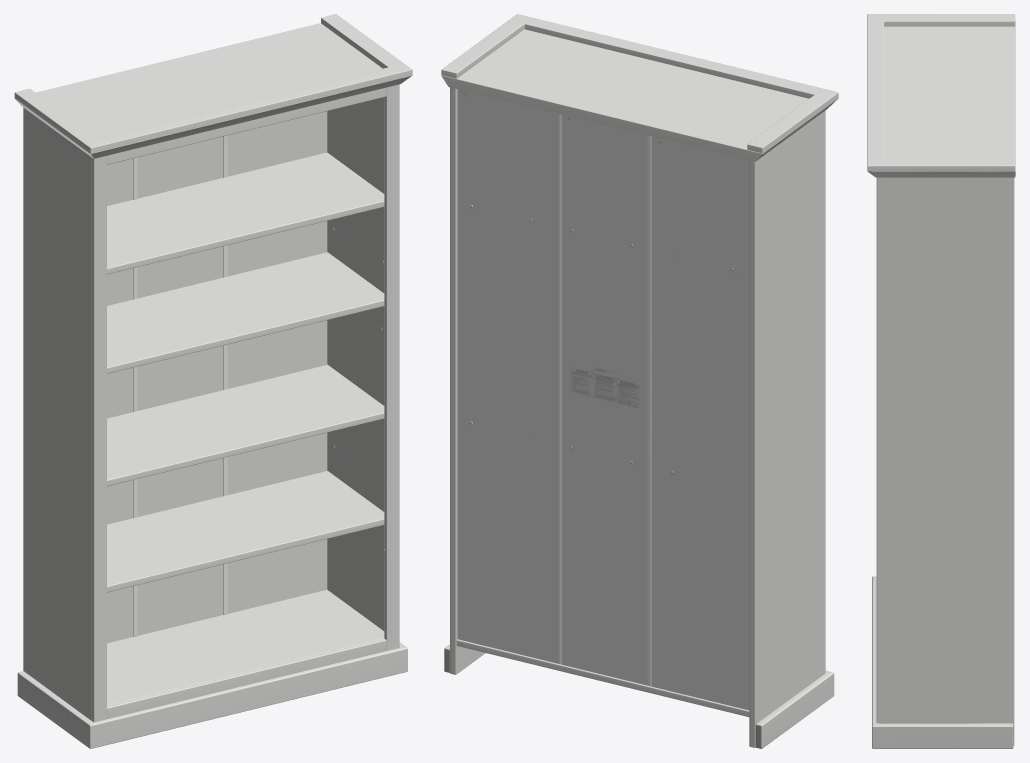
Rendered from abo-B07QF9X1LH.glb.
The picture shows the model from 3 angles, left to right: view 1: azimuth 30°, elevation 25°; view 2: azimuth 150°, elevation 25°; view 3: azimuth 270°, elevation 25°; orthographic projection. The views are drawn at different scales.
Bounding box in the file's own units: 1.05 × 1.88 × 0.432.
1 material, 1 textured.
